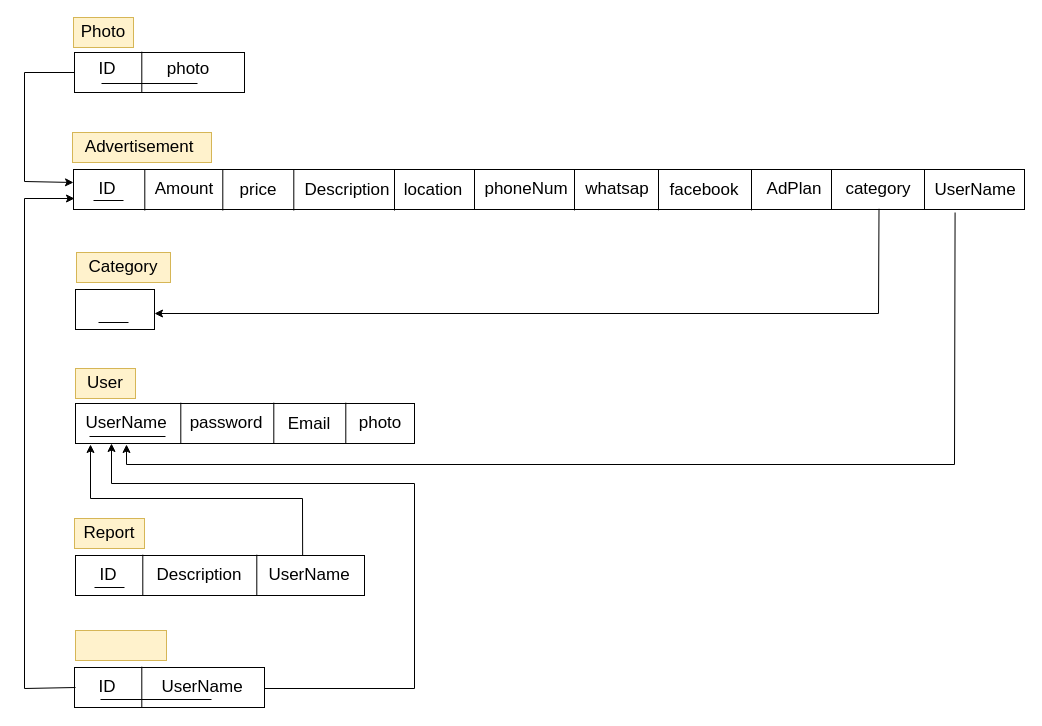
The diagram is 1042 pixels wide and 726 high, and some of its shapes have lost their labels. Here are the shapes that lost their labels. From the top down, the centre of each, then its label:
the point at 114,309: Name
the point at 120,645: Favorites
